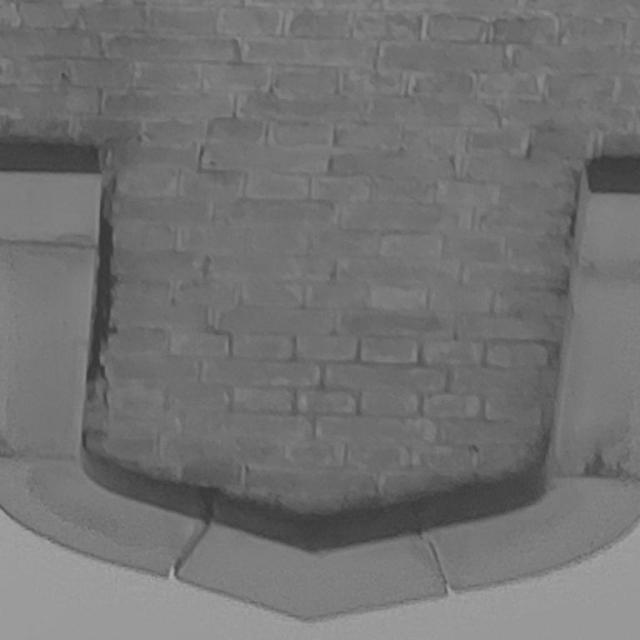crack: (86, 177, 117, 411)
